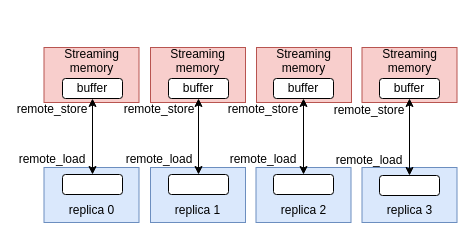
Some shapes in this 475 by 240 pixel diagram are drawn without their labels. The shapes that lost their labels are listed below. From the top down, each one's centre as x and y in pixels, then its label:
At (x=92, y=184): "shard0".
At (x=198, y=184): "shard1".
At (x=303, y=184): "shard2".
At (x=409, y=185): "shard3".
